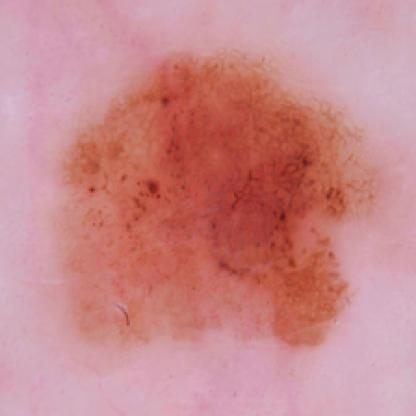Skin_Cancer-Malignant: (50, 46, 382, 354)
